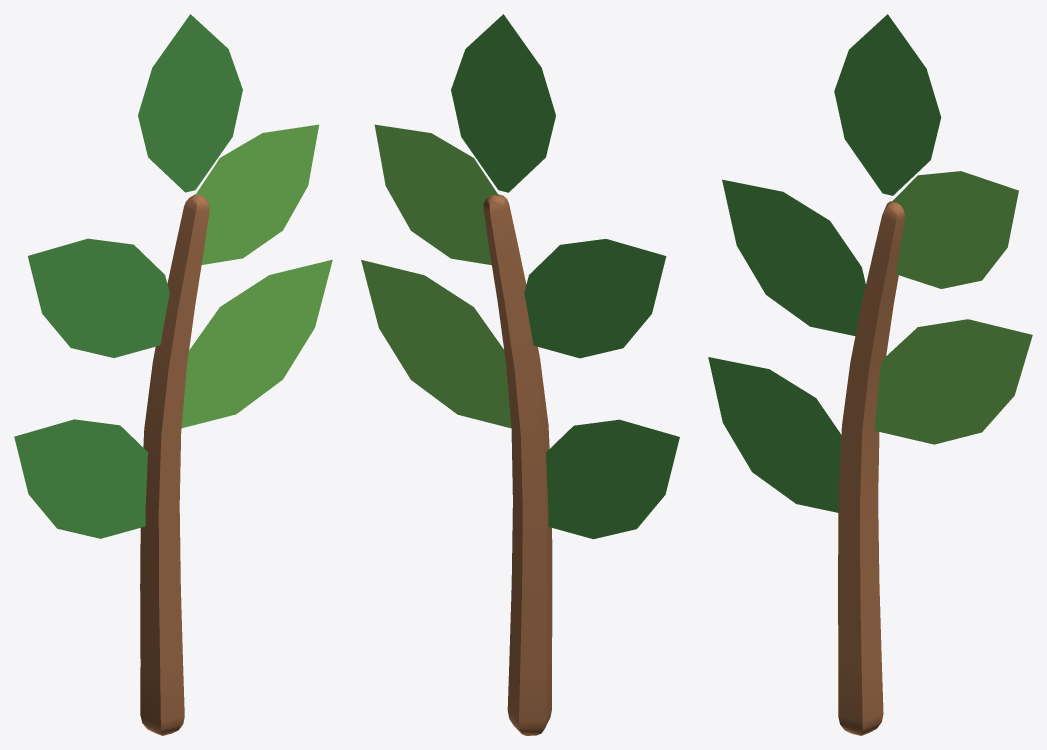
The model's file is item_leaves.glb.
3 views of the same model, side by side, from view 1: azimuth 30°, elevation 25°; view 2: azimuth 150°, elevation 25°; view 3: azimuth 330°, elevation 25° (orthographic).
Parts seen in each view (by area): view 1: item_leaves; view 2: item_leaves; view 3: item_leaves.
Boxes of the visible parts, left/top/right/bottom form: item_leaves: left=14, top=14, right=332, bottom=735; item_leaves: left=361, top=14, right=679, bottom=735; item_leaves: left=708, top=14, right=1032, bottom=735.
Size of the model in its own units: 0.188 by 0.402 by 0.0217.
